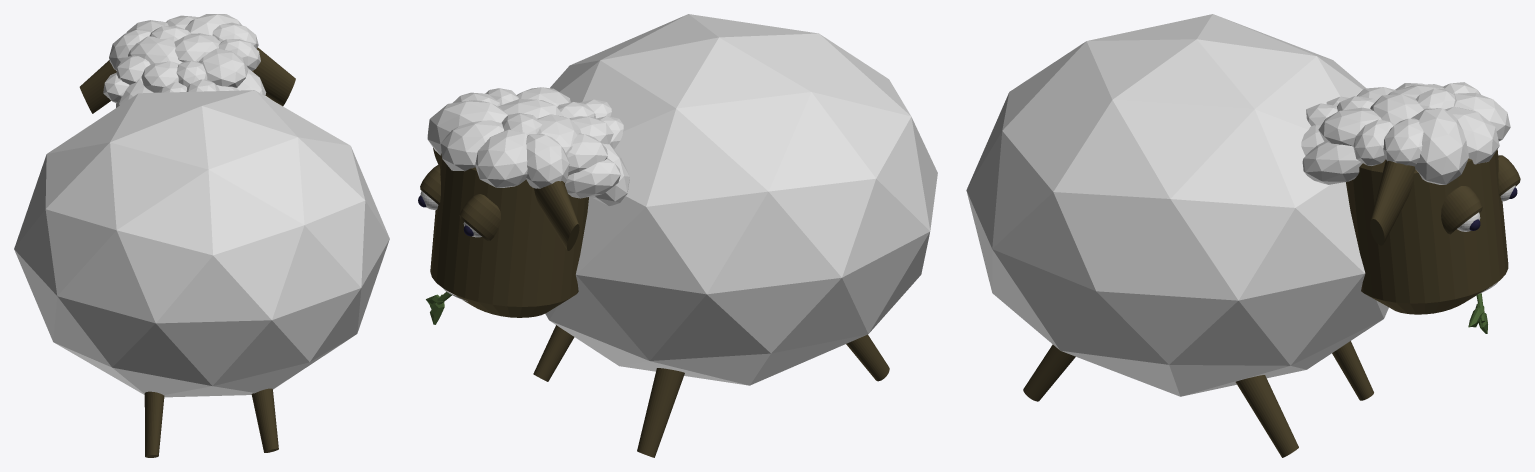
Rendered from moutonGwen.glb.
3 views of the same model, side by side, from view 1: azimuth 30°, elevation 25°; view 2: azimuth 150°, elevation 25°; view 3: azimuth 270°, elevation 25° (orthographic). The views are drawn at different scales.
Parts seen in each view (by area): view 1: Icosphere, Icosphere.011, Cylinder.001, Cylinder.007, Cylinder.006, Icosphere.016, Icosphere.009, Cylinder.002, Icosphere.010, Icosphere.001, Icosphere.003, Icosphere.007 (+6 smaller); view 2: Icosphere, Cylinder, Icosphere.005, Cylinder.005, Icosphere.004, Icosphere.001, Icosphere.003, Cylinder.002, Icosphere.014, Torus.001, Icosphere.006, Cylinder.004 (+8 smaller); view 3: Icosphere, Cylinder, Icosphere.003, Cylinder.001, Cylinder.004, Icosphere.017, Icosphere.004, Icosphere.002, Icosphere.011, Cylinder.007, Torus, Icosphere.007 (+5 smaller).
Boxes of the visible parts, <box> form: Icosphere: <box>14,90,389,397</box>; Icosphere.011: <box>198,48,248,87</box>; Cylinder.001: <box>254,47,295,106</box>; Cylinder.007: <box>251,388,278,452</box>; Cylinder.006: <box>144,391,164,457</box>; Icosphere.016: <box>128,36,182,64</box>; Icosphere.009: <box>174,33,220,61</box>; Cylinder.002: <box>79,60,116,113</box>; Icosphere.010: <box>141,61,179,92</box>; Icosphere.001: <box>109,30,150,70</box>; Icosphere.003: <box>185,14,241,35</box>; Icosphere.007: <box>218,39,260,70</box>; Icosphere: <box>545,14,937,385</box>; Cylinder: <box>430,153,588,317</box>; Icosphere.005: <box>475,129,527,187</box>; Cylinder.005: <box>637,368,684,457</box>; Icosphere.004: <box>441,120,503,171</box>; Icosphere.001: <box>526,134,569,188</box>; Icosphere.003: <box>427,100,507,155</box>; Cylinder.002: <box>534,181,579,250</box>; Icosphere.014: <box>565,158,620,198</box>; Torus.001: <box>459,194,500,241</box>; Icosphere.006: <box>567,133,607,175</box>; Cylinder.004: <box>533,325,574,381</box>; Icosphere: <box>966,14,1388,396</box>; Cylinder: <box>1346,149,1508,314</box>; Icosphere.003: <box>1411,108,1468,184</box>; Cylinder.001: <box>1370,159,1415,245</box>; Cylinder.004: <box>1235,375,1298,457</box>; Icosphere.017: <box>1302,142,1362,184</box>; Icosphere.004: <box>1445,107,1499,164</box>; Icosphere.002: <box>1383,118,1423,166</box>; Icosphere.011: <box>1318,107,1381,146</box>; Cylinder.007: <box>1023,344,1075,401</box>; Torus: <box>1441,186,1482,234</box>; Icosphere.007: <box>1353,119,1394,165</box>.
Size of the model in its own units: 1.24 by 1.09 by 1.49.
